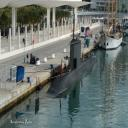submarine: (47, 39, 98, 97)
